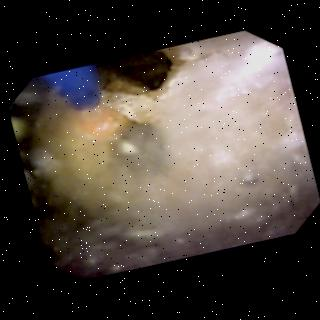fiber: (42, 66, 95, 110)
stone: (30, 34, 304, 231)
